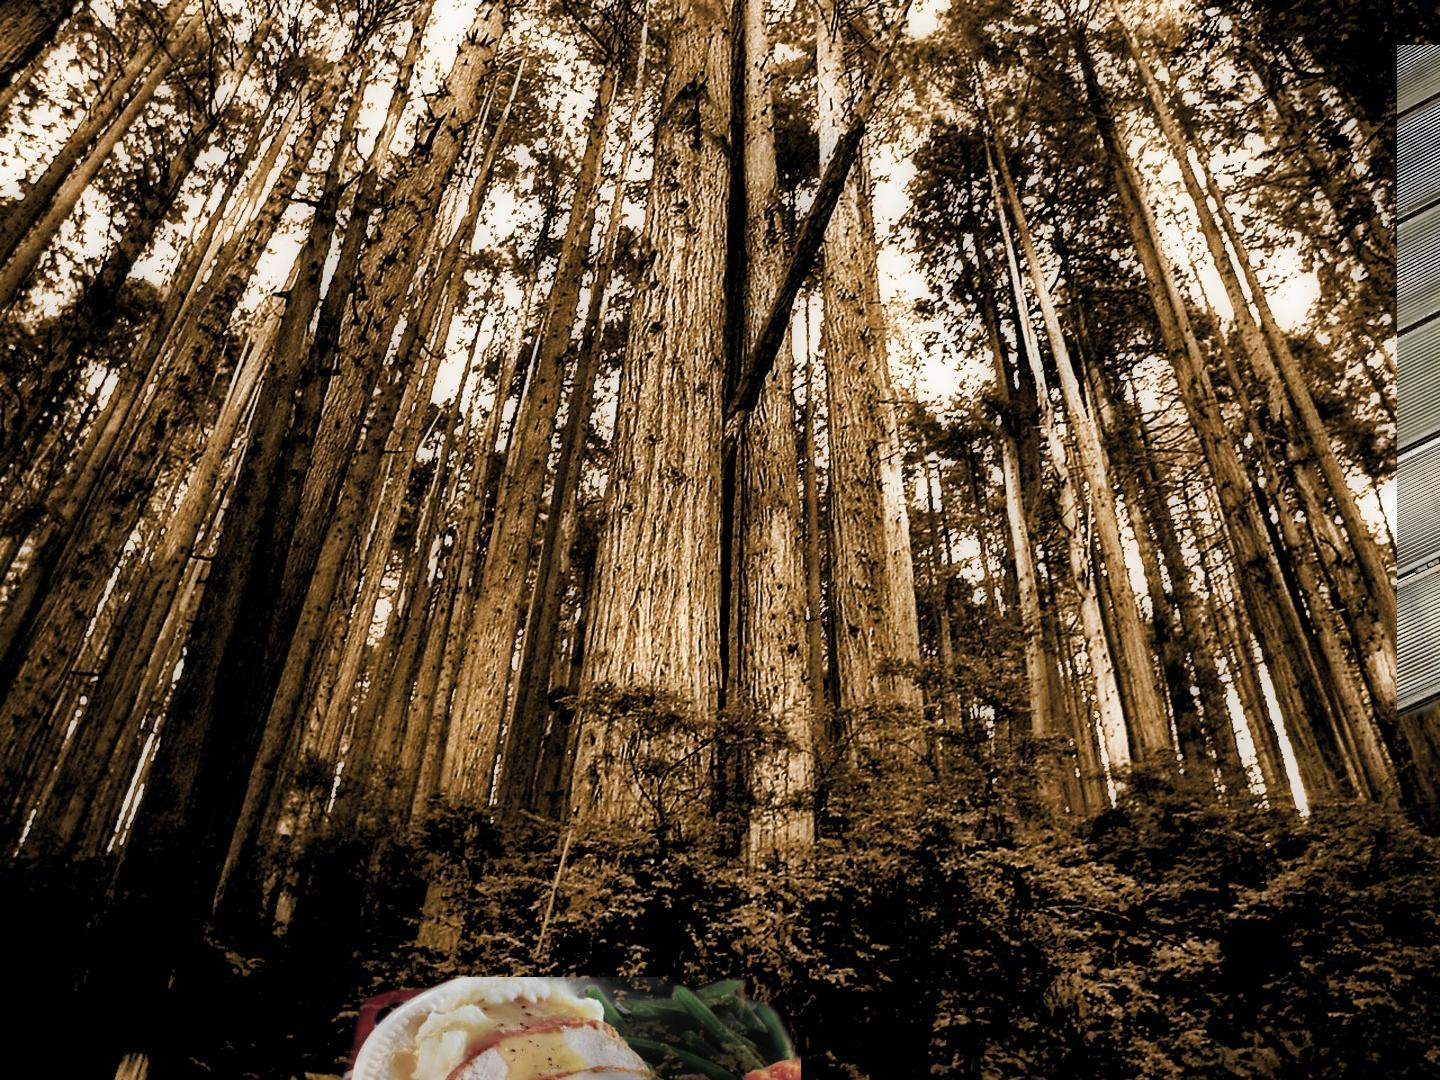metal-cans: (1397, 45, 1440, 728)
paper: (289, 977, 801, 1080)
